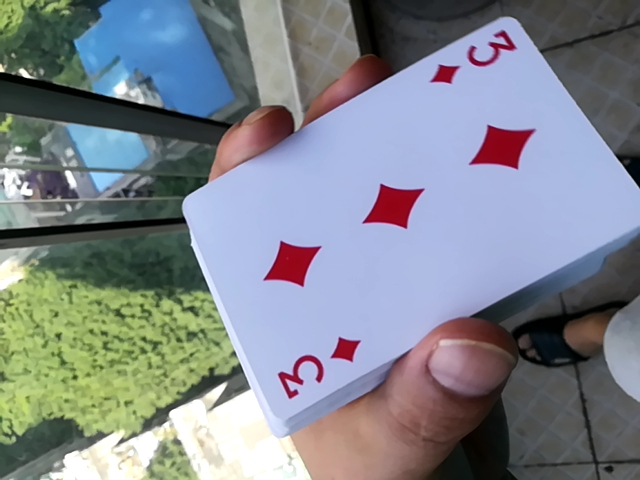fk 3: (188, 13, 637, 455)
